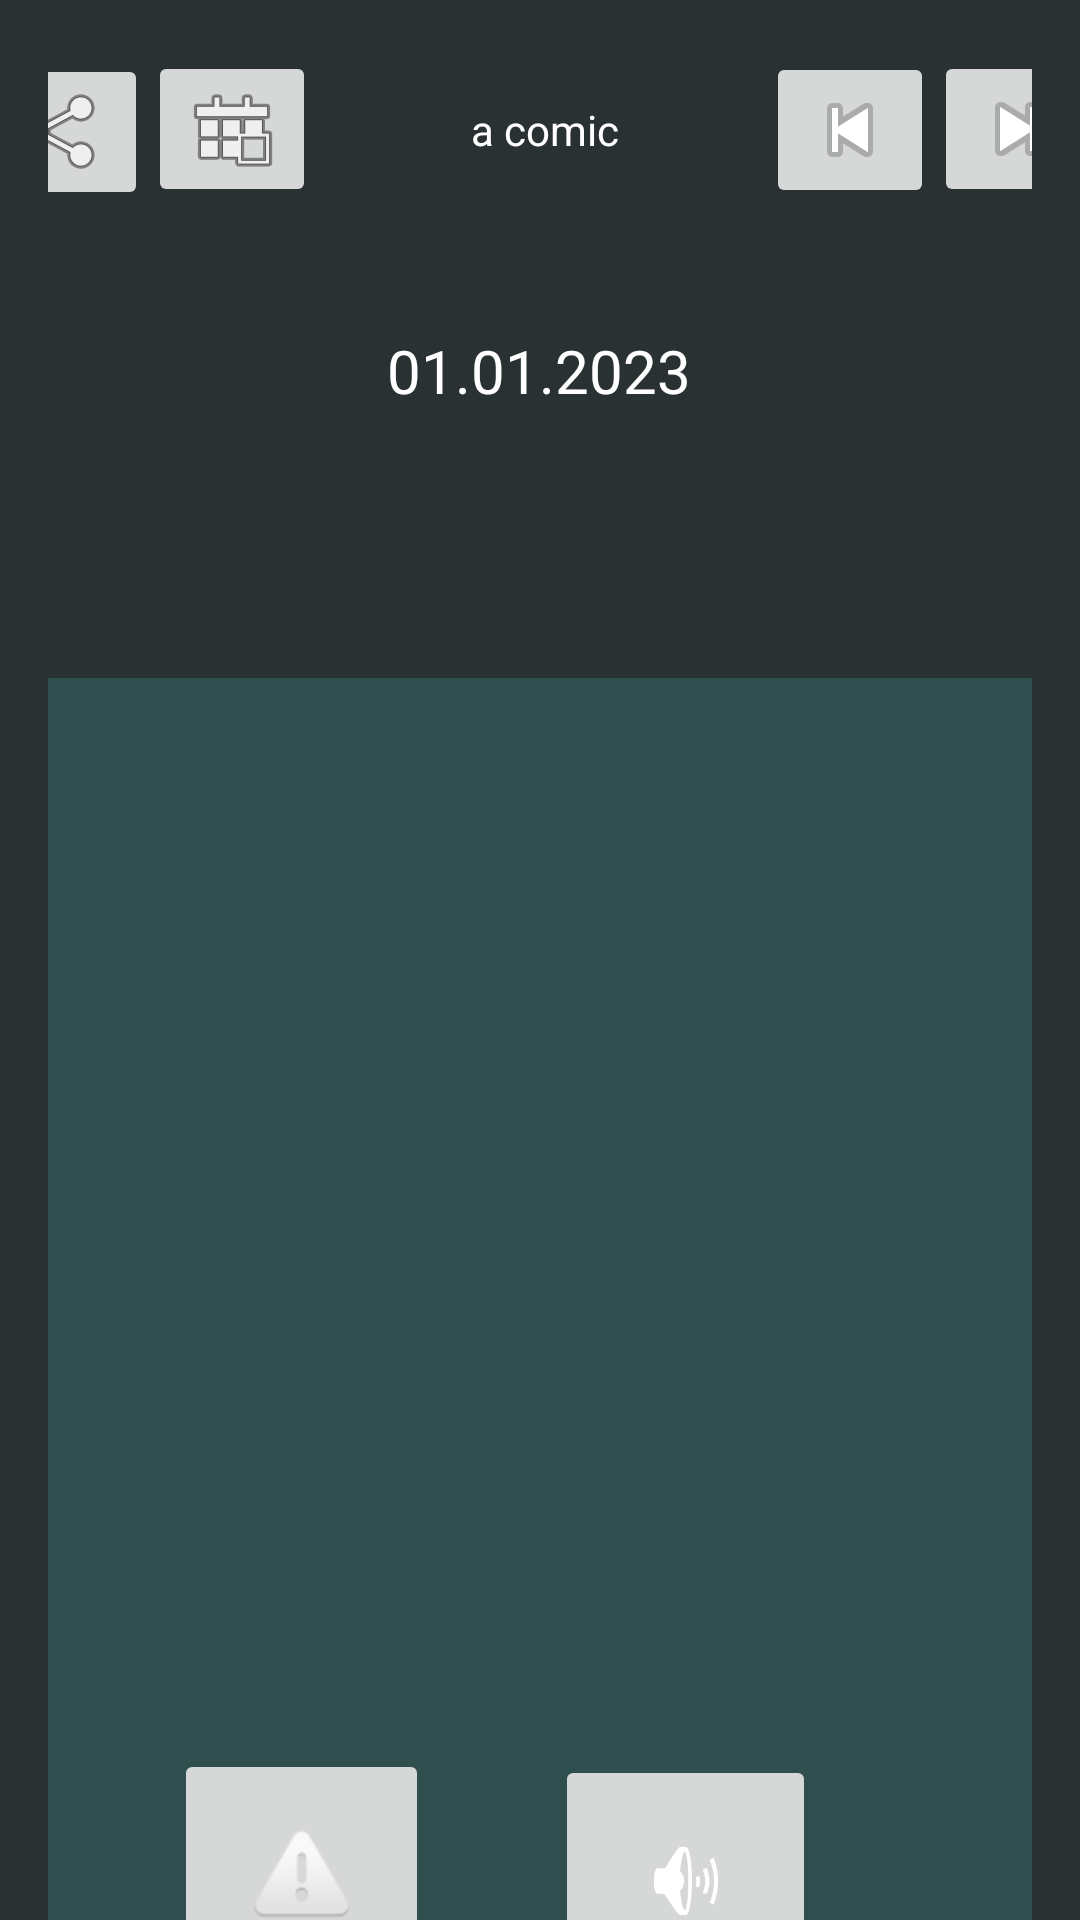

Where icons sit on this 1080px×1920px app screen, as (x1, y1, x2, y2):
Open Comic by date: (160, 69, 304, 189)
Previous Comic: (778, 70, 922, 190)
